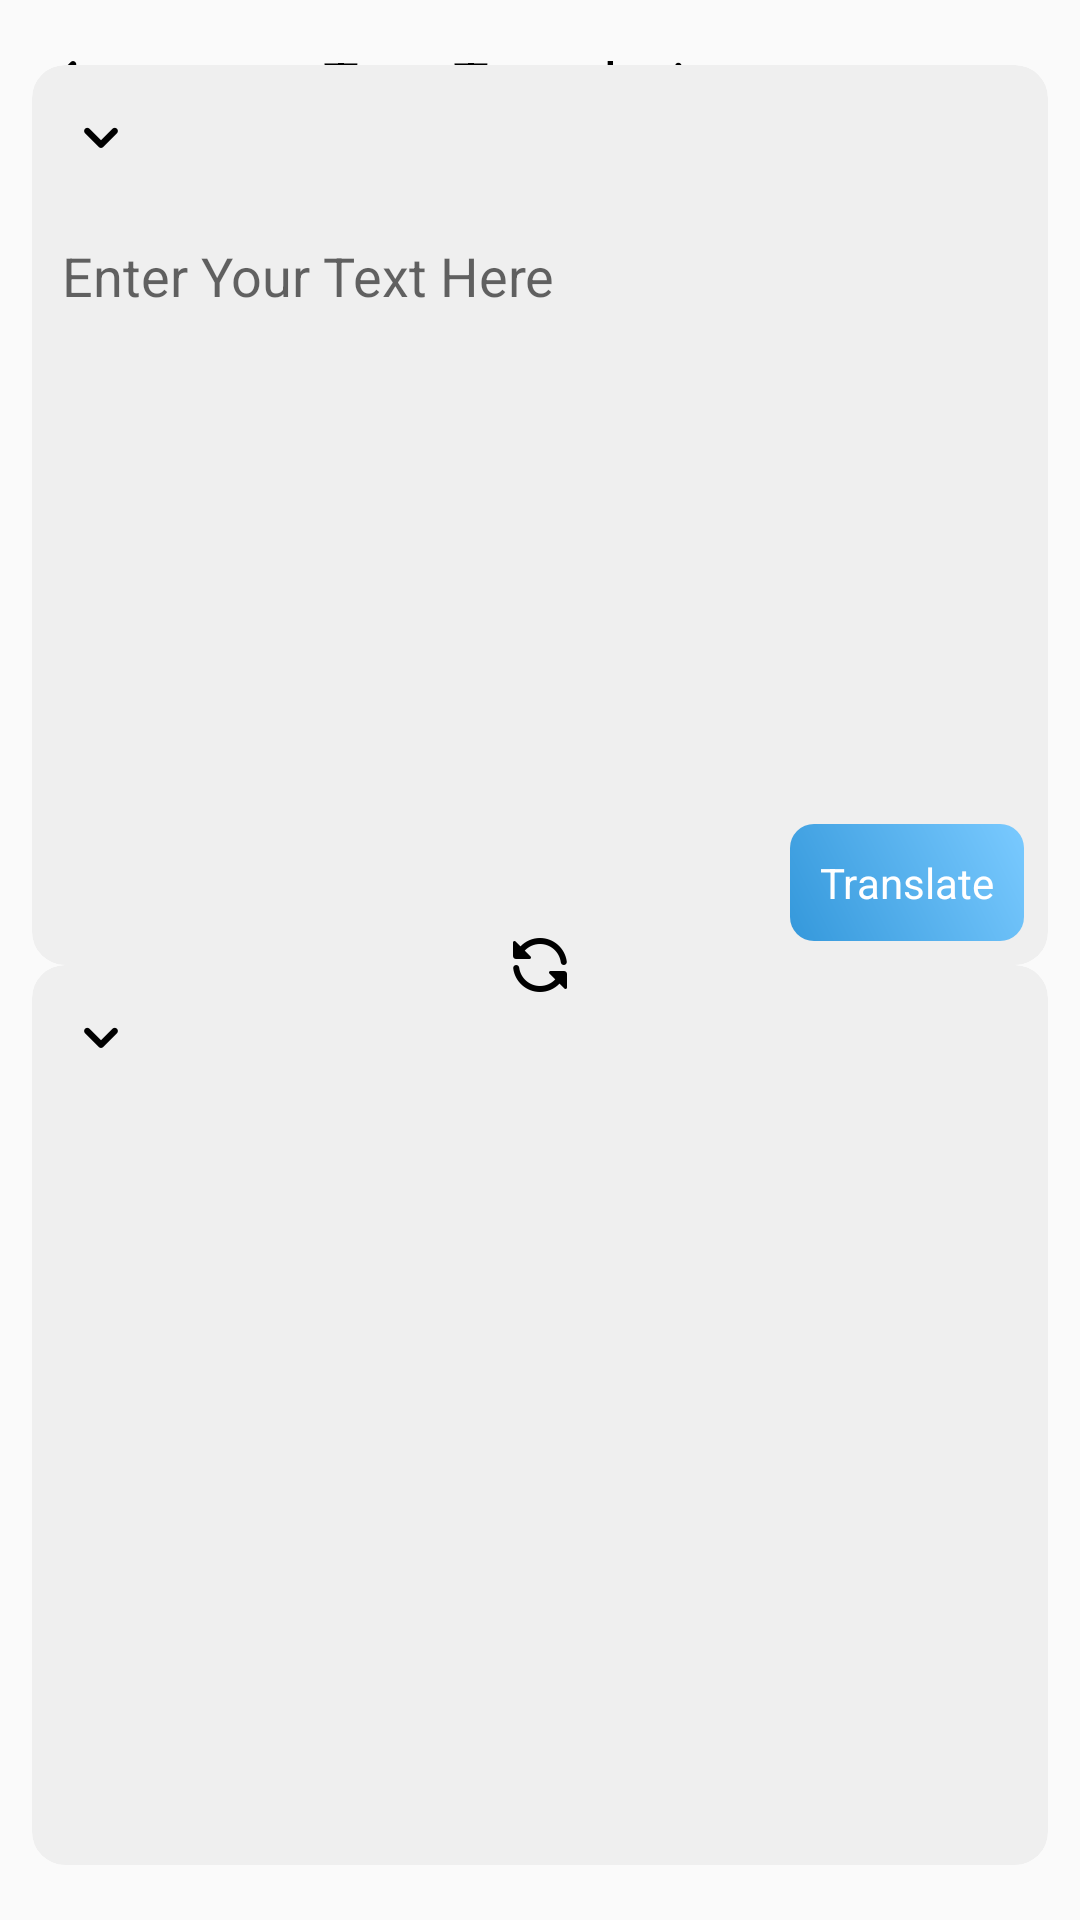

Named icons in this screenshot (1080 x 1920) and their centers, (x=x, y=y):
dropdown: (x=101, y=137), (x=101, y=1037)
rotate: (x=540, y=965)
